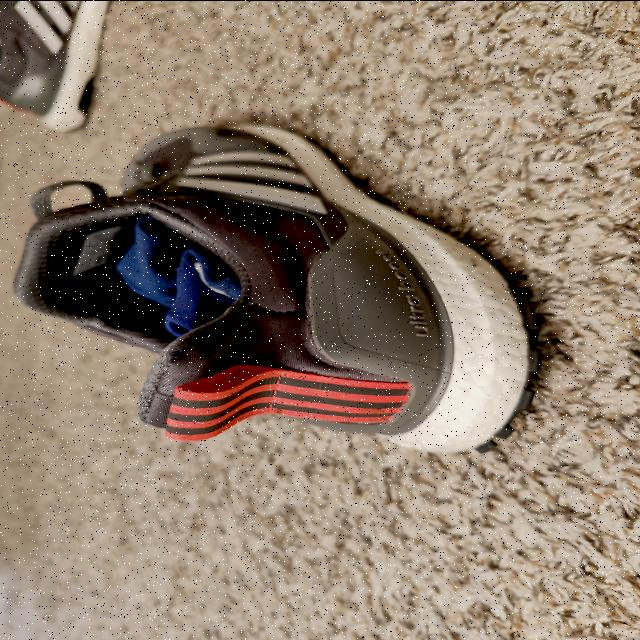black shoes: (11, 128, 526, 436)
